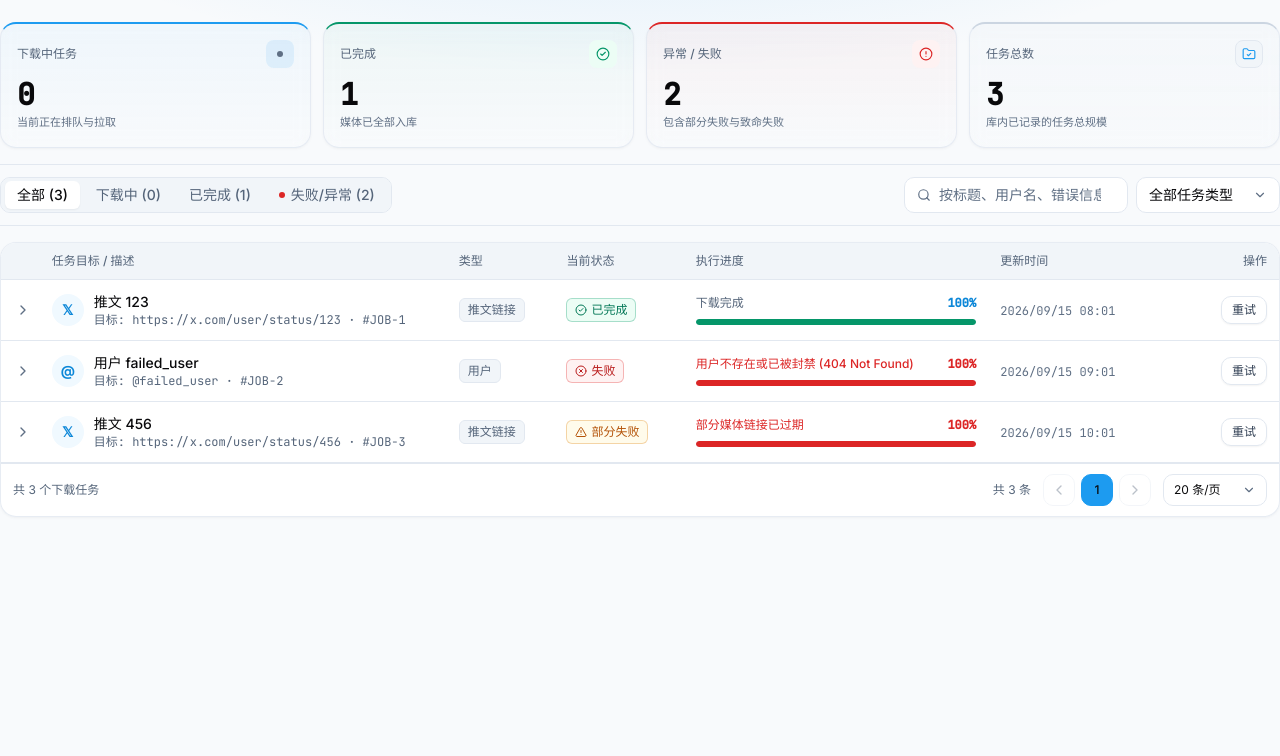
Test: TaskCenterPage › 展开含有失败媒体的任务时，展示失败媒体列表
Click the button named "展开详情" in the row of "推文 456".
click(23, 432)  # box [9,418,37,446]
(page scrolled)
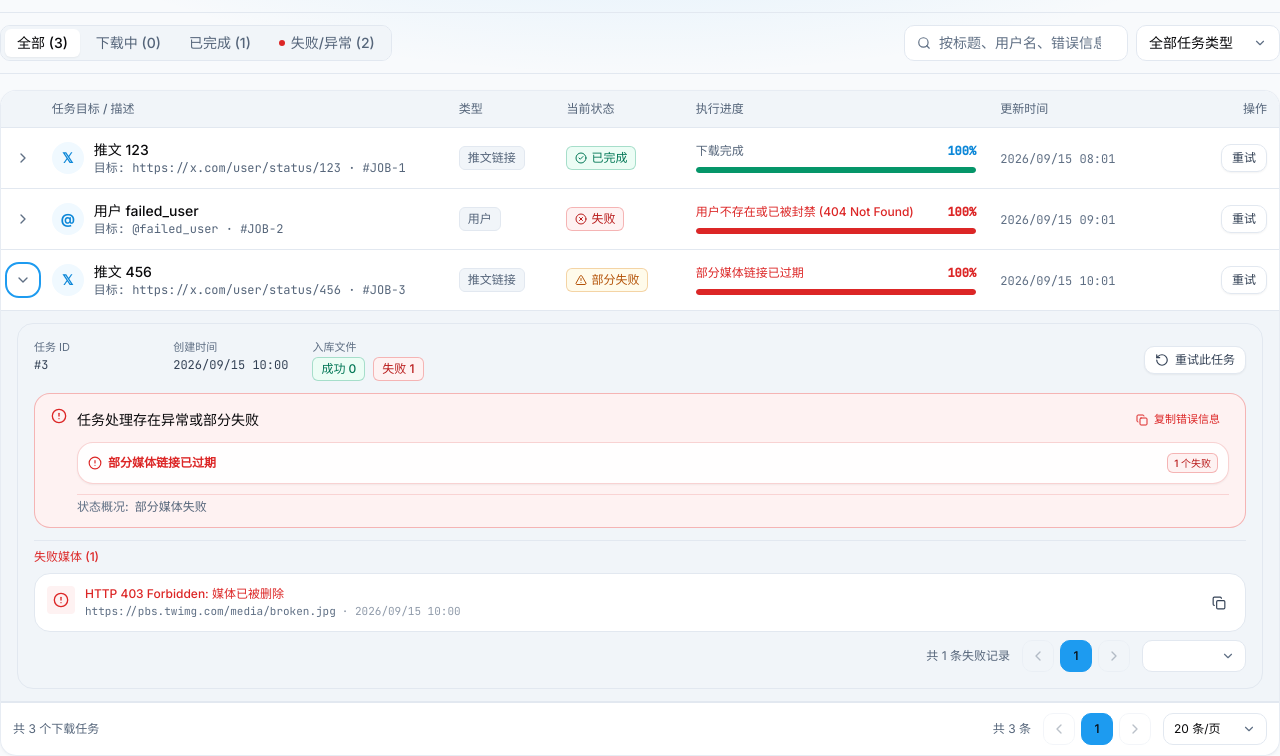
Expected: the text "HTTP 403 Forbidden: 媒体已被删除" is shown, [85,586,284,601]
Expected: the text "https://pbs.twimg.com/media/broken.jpg" is shown, [85,604,336,619]
